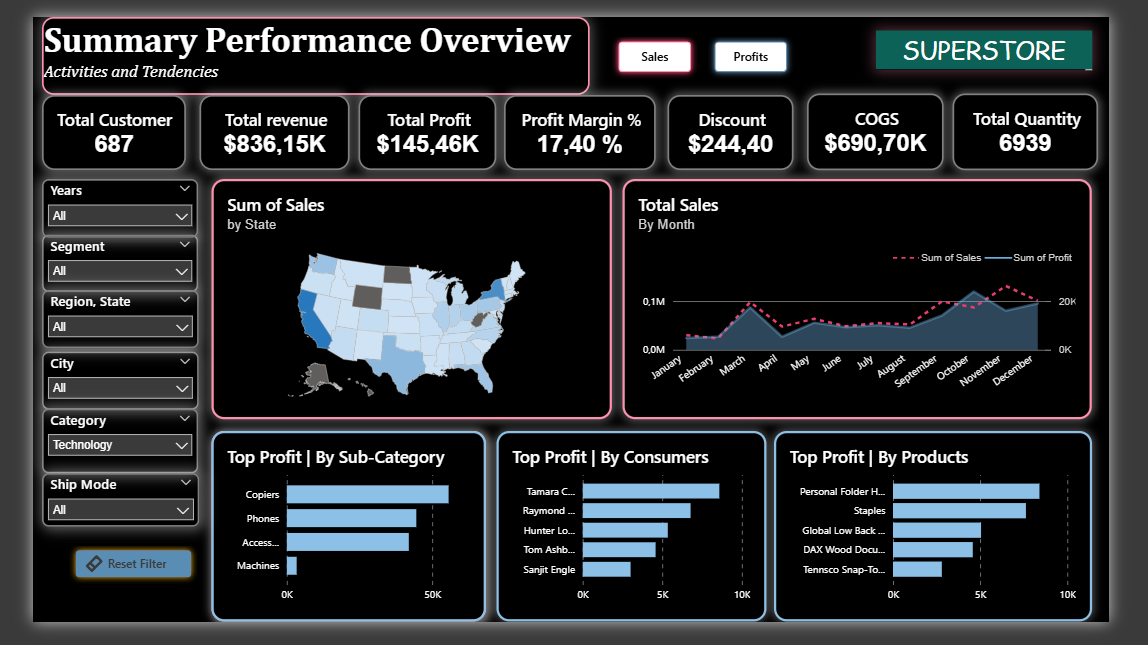

What the dashboard file says about the page in this screenshot:
{"tool":"powerbi","page":{"name":"Summary","canvas":[1280,720],"ordinal":3},"visuals":[{"type":"textbox","title":"Summary Performance Overview","box":[10.7,0,651.8,92.9],"z":0},{"type":"card","title":"Total revenue","fields":{"Values":["Sum(Sample - Superstore - Sample - Superstore csv (3).Sales)"]},"box":[198.2,92.9,166.1,89.3],"z":1000},{"type":"card","title":"Total Profit","fields":{"Values":["Sum(Sample - Superstore - Sample - Superstore csv (3).Profit)"]},"box":[376.8,92.9,164.3,89.3],"z":2000},{"type":"card","title":"Profit Margin %","fields":{"Values":["Superstore.total profit margin"]},"box":[551.8,92.9,180.4,89.3],"z":3000},{"type":"card","title":"Total Quantity","fields":{"Values":["Sum(Sample - Superstore - Sample - Superstore csv (3).Quantity)"]},"box":[1094.6,91.1,173.2,91.1],"z":4000},{"type":"card","title":" Discount","fields":{"Values":["Sum(Sample - Superstore - Sample - Superstore csv (3).Discount)"]},"box":[739.3,92.9,166.1,89.3],"z":5000},{"type":"slicer","fields":{"Values":["Sample - Superstore - Sample - Superstore csv (3).Segment"]},"box":[10.5,259.6,186,68.4],"z":6000},{"type":"slicer","fields":{"Values":["Sample - Superstore - Sample - Superstore csv (3).Order Year"]},"box":[10.5,193,186,70.2],"z":7000},{"type":"card","title":"COGS","fields":{"Values":["Sum(Superstore.Cost of goods sold)"]},"box":[921.4,91.1,162.5,91.1],"z":8000},{"type":"textbox","title":"SUPERSTORE","box":[1003.9,16.3,257.1,47.2],"z":9000},{"type":"shapeMap","fields":{"Value":["Sum(Superstore.Sales)"],"Category":["Superstore.State"]},"box":[212.5,192.9,476.8,285.7],"z":10000},{"type":"clusteredBarChart","title":"Top sales | By Sub-Category","fields":{"Category":["Superstore.Sub-Category"],"Y":["Sum(Superstore.Sales)"]},"box":[212.5,492.9,326.8,226.8],"z":11000},{"type":"areaChart","title":"Total Sales","fields":{"Category":["Sample - Superstore - Sample - Superstore csv (3).Order Date.Variation.Date Hierarchy.Month"],"Y":["Sum(Superstore.Sales)"],"Y2":["Sum(Superstore.Profit)"]},"box":[701.8,192.9,558.9,285.7],"z":12000},{"type":"card","title":"Total Customer","fields":{"Values":["Count(Superstore.Customer Name)"]},"box":[10.7,92.9,171.4,89.3],"z":13000},{"type":"slicer","fields":{"Values":["Superstore.City"]},"box":[9.9,397.5,186.4,69.3],"z":14000},{"type":"slicer","fields":{"Values":["Superstore.Region","Superstore.State"]},"box":[9.9,324.9,186.4,69.3],"z":15000},{"type":"slicer","fields":{"Values":["Superstore.Category"]},"box":[10.5,466.7,186,77.2],"z":16000},{"type":"actionButton","box":[42.9,626.8,153.6,48.2],"z":17000},{"type":"clusteredBarChart","title":"Top sales | By Consumers","fields":{"Category":["Superstore.Customer Name"],"Y":["Sum(Superstore.Sales)"]},"box":[551.8,494.6,325,225],"z":18000},{"type":"clusteredBarChart","title":"Top sales | By Products","fields":{"Category":["Superstore.Product Name"],"Y":["Sum(Superstore.Sales)"]},"box":[882.1,489.3,376.8,230.4],"z":19000},{"type":"clusteredBarChart","title":"Top sales | By Products","fields":{"Category":["Superstore.Product Name"],"Y":["Sum(Superstore.Sales)"]},"box":[883.9,494.6,376.8,225],"z":20000},{"type":"actionButton","box":[689.3,21.4,101.8,51.8],"z":24000},{"type":"actionButton","box":[803.6,21.4,101.8,51.8],"z":25000},{"type":"slicer","fields":{"Values":["Superstore.Ship Mode"]},"box":[10.7,542.9,187.5,64.3],"z":25001}]}

Visuals, with their boxes in screenshot pixels (x1, y1, x2, y2), scaled from the page's 1280x720 canvas onto the 1148x645 screenshot:
"Summary Performance Overview" textbox: 10, 0, 594, 83
"Total revenue" card: 178, 83, 327, 163
"Total Profit" card: 338, 83, 485, 163
"Profit Margin %" card: 495, 83, 657, 163
"Total Quantity" card: 982, 82, 1137, 163
" Discount" card: 663, 83, 812, 163
slicer - Sample - Superstore - Sample - Superstore csv (3).Segment: 9, 233, 176, 294
slicer - Sample - Superstore - Sample - Superstore csv (3).Order Year: 9, 173, 176, 236
"COGS" card: 826, 82, 972, 163
"SUPERSTORE" textbox: 900, 15, 1131, 57
shapeMap - Sum(Superstore.Sales) x Superstore.State: 191, 173, 618, 429
"Top sales | By Sub-Category" clusteredBarChart: 191, 442, 484, 644
"Total Sales" areaChart: 629, 173, 1131, 429
"Total Customer" card: 10, 83, 163, 163
slicer - Superstore.City: 9, 356, 176, 418
slicer - Superstore.Region x Superstore.State: 9, 291, 176, 353
slicer - Superstore.Category: 9, 418, 176, 487
actionButton: 38, 562, 176, 605
"Top sales | By Consumers" clusteredBarChart: 495, 443, 786, 644
"Top sales | By Products" clusteredBarChart: 791, 438, 1129, 644
"Top sales | By Products" clusteredBarChart: 793, 443, 1131, 644
actionButton: 618, 19, 710, 66
actionButton: 721, 19, 812, 66
slicer - Superstore.Ship Mode: 10, 486, 178, 544
